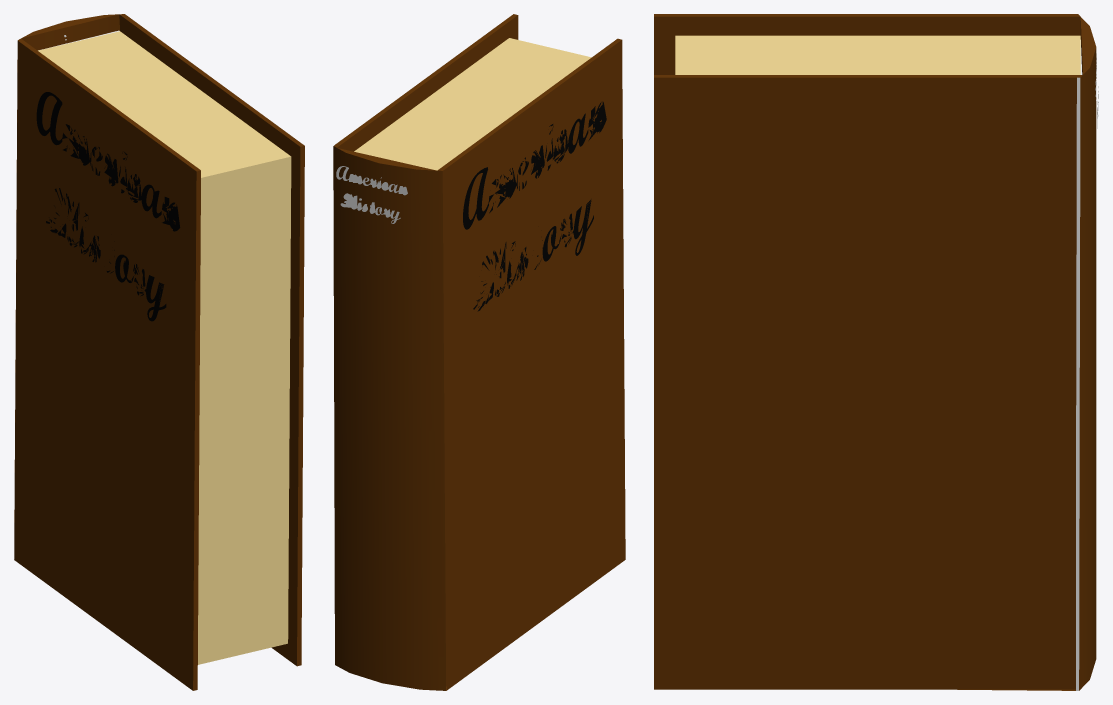
The model's file is book5.obj.
3 views of the same model, side by side, from view 1: azimuth 30°, elevation 25°; view 2: azimuth 150°, elevation 25°; view 3: azimuth 270°, elevation 25° (orthographic). The views are drawn at different scales.
Visible parts, largest first — view 1: grp3, grp5, grp1; view 2: grp3, grp5, grp1, grp2; view 3: grp3, grp5, grp4.
Boxes of the visible parts, left/top/right/bottom form: grp3: left=14, top=14, right=304, bottom=690; grp5: left=38, top=31, right=291, bottom=664; grp1: left=36, top=92, right=180, bottom=321; grp3: left=333, top=14, right=625, bottom=690; grp5: left=354, top=38, right=591, bottom=170; grp1: left=463, top=101, right=606, bottom=311; grp2: left=336, top=166, right=407, bottom=223; grp3: left=654, top=14, right=1096, bottom=690; grp5: left=675, top=35, right=1080, bottom=74; grp4: left=1076, top=40, right=1082, bottom=690.
Bounding box in the file's own units: 1.81 × 8.01 × 5.25.
